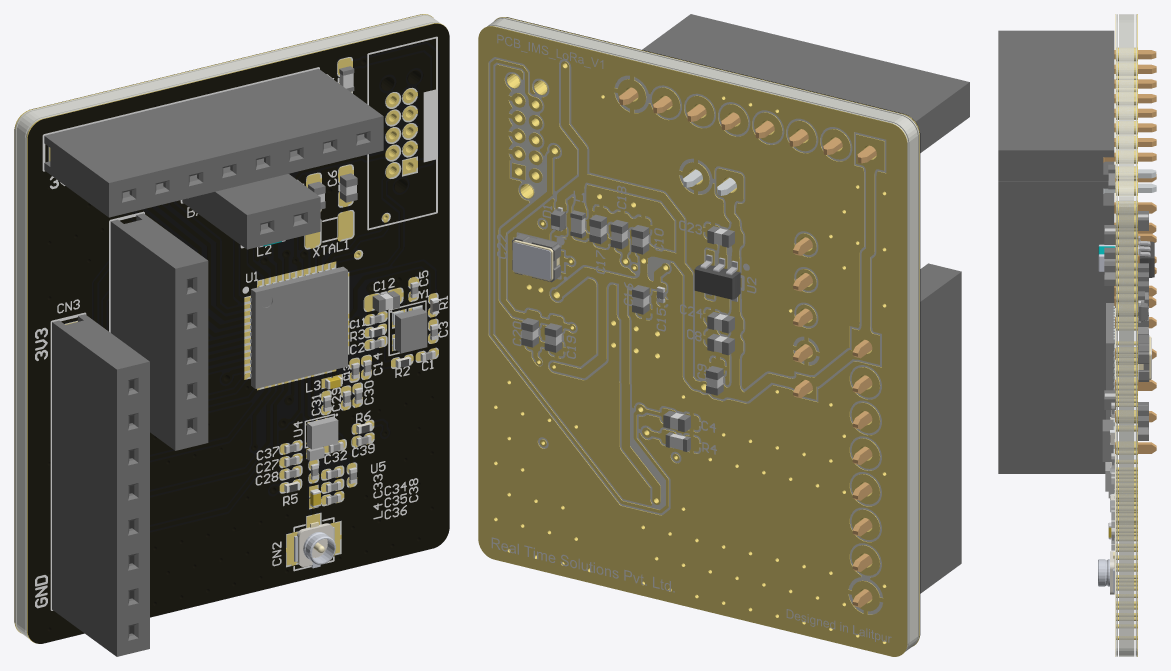
Rendered from IMS-LoRa.glb.
3 views of the same model, side by side, from view 1: azimuth 30°, elevation 25°; view 2: azimuth 150°, elevation 25°; view 3: azimuth 270°, elevation 25° (orthographic). The views are drawn at different scales.
Parts seen in each view (by area): view 1: Solder_Top, ComponentBody.85, ComponentBody.83, ComponentBody.87, ComponentBody.12, Core.1, Top, ComponentBody.81, Core, GND, Core.2, CN1 (+5 smaller); view 2: GND, Core.2, ComponentBody.83, ComponentBody.85, 3V3, Core.1, Bottom, Pad.39, Pad.40, NetC4_1, CN1, ComponentBody.84 (+9 smaller); view 3: ComponentBody.83, ComponentBody.85, ComponentBody.87, Core.1, GND, ComponentBody.81, ComponentBody.82, CN1, Core, Core.2, Pad.39, ComponentBody.84 (+9 smaller).
Part boxes in pixels (left/top/right/bottom): Solder_Top: left=27, top=23, right=449, bottom=643; ComponentBody.85: left=52, top=314, right=149, bottom=656; ComponentBody.83: left=44, top=69, right=383, bottom=217; ComponentBody.87: left=110, top=213, right=208, bottom=450; ComponentBody.12: left=251, top=266, right=347, bottom=388; Core.1: left=16, top=15, right=439, bottom=638; Top: left=35, top=36, right=447, bottom=610; ComponentBody.81: left=182, top=174, right=320, bottom=249; Core: left=25, top=22, right=438, bottom=636; GND: left=14, top=14, right=448, bottom=643; Core.2: left=15, top=14, right=431, bottom=632; CN1: left=386, top=88, right=416, bottom=177; GND: left=478, top=17, right=919, bottom=656; Core.2: left=488, top=25, right=908, bottom=649; ComponentBody.83: left=642, top=14, right=969, bottom=152; ComponentBody.85: left=920, top=263, right=961, bottom=593; 3V3: left=550, top=61, right=877, bottom=504; Core.1: left=487, top=18, right=917, bottom=651; Bottom: left=491, top=34, right=891, bottom=642; Pad.39: left=617, top=79, right=884, bottom=170; Pad.40: left=851, top=328, right=880, bottom=611; NetC4_1: left=490, top=59, right=668, bottom=513; CN1: left=506, top=73, right=547, bottom=198; ComponentBody.84: left=852, top=340, right=872, bottom=607; ComponentBody.83: left=998, top=30, right=1114, bottom=181; ComponentBody.85: left=998, top=328, right=1105, bottom=473; ComponentBody.87: left=998, top=212, right=1114, bottom=327; Core.1: left=1119, top=14, right=1134, bottom=656; GND: left=1115, top=14, right=1137, bottom=656; ComponentBody.81: left=998, top=181, right=1114, bottom=212; ComponentBody.82: left=1103, top=50, right=1156, bottom=162; CN1: left=1116, top=203, right=1137, bottom=316; Core: left=1116, top=14, right=1117, bottom=656; Core.2: left=1135, top=14, right=1136, bottom=656; Pad.39: left=1116, top=47, right=1137, bottom=163; ComponentBody.84: left=1114, top=222, right=1156, bottom=453.
Size of the model in its own units: 3.2 by 3.8 by 1.16.
